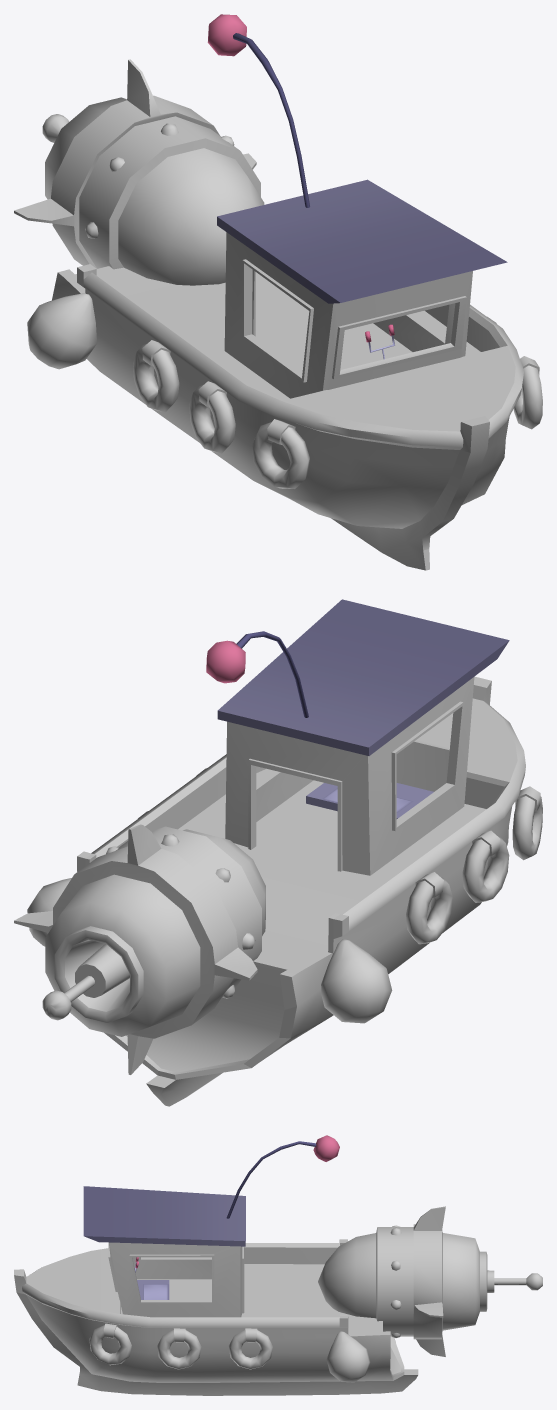
Rendered from BOOT_norah.fbx.
3 views of the same model, one above another, from view 1: azimuth 30°, elevation 25°; view 2: azimuth 150°, elevation 25°; view 3: azimuth 270°, elevation 25° (orthographic). The views are drawn at different scales.
Parts seen in each view (by area): view 1: polySurface6, polySurface7, polySurface26, polySurface12, polySurface22, polySurface11, polySurface4, polySurface10, polySurface5, polySurface25, polySurface24; view 2: polySurface6, polySurface7, polySurface26, polySurface12, polySurface22, polySurface4, polySurface10, polySurface11, Block, polySurface25, polySurface21, polySurface24; view 3: polySurface6, polySurface7, polySurface26, polySurface12, polySurface21, polySurface8, polySurface9, polySurface5, Block, polySurface25, polySurface24.
Part boxes in pixels (x1,y1,x2,y2): polySurface6: (52,264,523,570); polySurface7: (14,59,264,285); polySurface26: (217,179,507,303); polySurface12: (224,232,472,398); polySurface22: (27,293,97,369); polySurface11: (252,419,309,488); polySurface4: (189,381,235,453); polySurface10: (133,340,179,412); polySurface5: (513,356,542,429); polySurface25: (207,14,246,56); polySurface24: (233,33,309,207); polySurface6: (77,676,525,1106); polySurface7: (14,824,265,1074); polySurface26: (217,599,509,755); polySurface12: (225,677,474,875); polySurface22: (321,939,392,1023); polySurface4: (462,830,509,902); polySurface10: (406,872,452,944); polySurface11: (512,786,542,860); Block: (306,783,433,818); polySurface25: (206,640,245,683); polySurface21: (27,878,71,946); polySurface24: (236,631,308,717); polySurface6: (14,1239,418,1395); polySurface7: (318,1206,542,1356); polySurface26: (83,1186,245,1246); polySurface12: (108,1242,244,1317); polySurface21: (326,1331,370,1382); polySurface8: (229,1328,272,1369); polySurface9: (157,1328,201,1369); polySurface5: (89,1323,131,1365); Block: (137,1280,169,1299); polySurface25: (313,1135,339,1161); polySurface24: (226,1141,316,1218).
Size of the model in its own units: 38.96 by 44.53 by 82.1.
